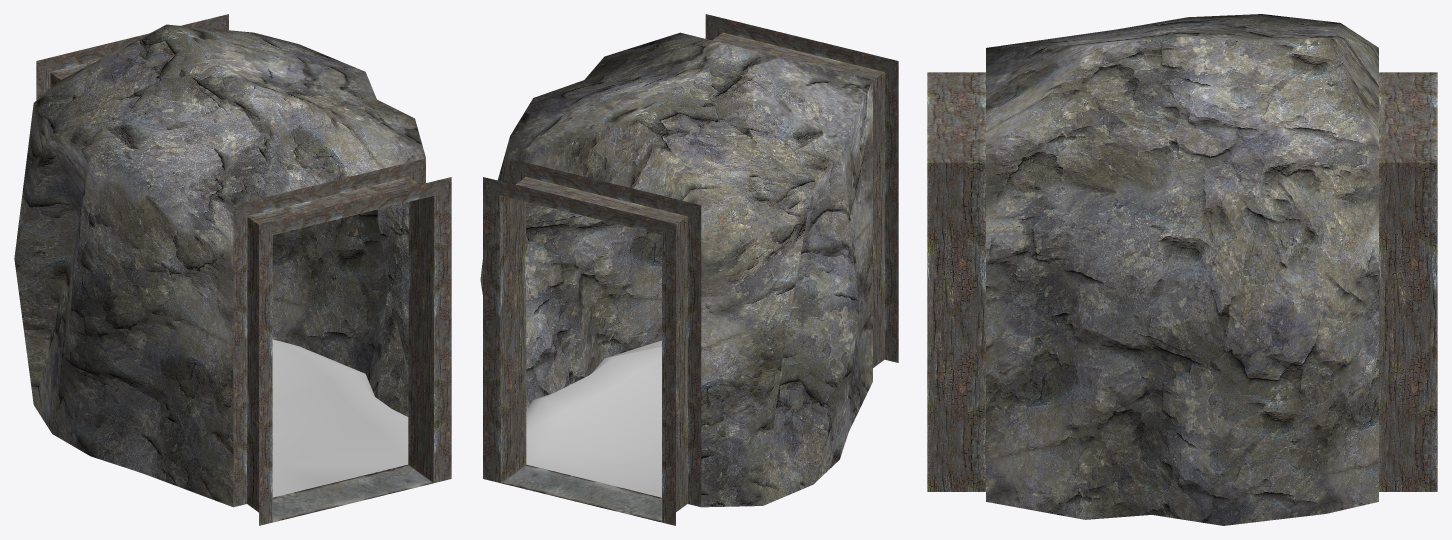
File: RockyTunnel1.FBX
3 renders of one model, left to right at view 1: azimuth 30°, elevation 25°; view 2: azimuth 150°, elevation 25°; view 3: azimuth 270°, elevation 25°, orthographic. The views are drawn at different scales.
Parts seen in each view (by area): view 1: Object35; view 2: Object35; view 3: Object35.
Part boxes in pixels (x1,y1,x2,y2): Object35: [14, 14, 451, 525]; Object35: [480, 14, 898, 525]; Object35: [927, 14, 1437, 525].
Size of the model in its own units: 461 by 458 by 500.
